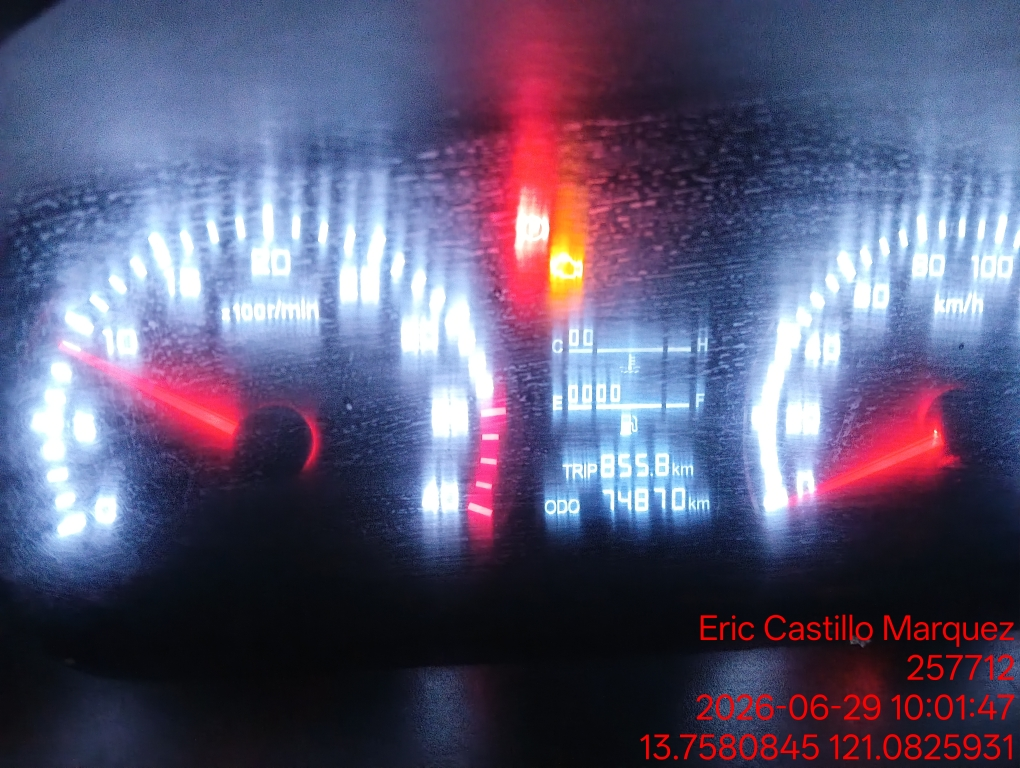grid_pose: (169, 67, 691, 408)
